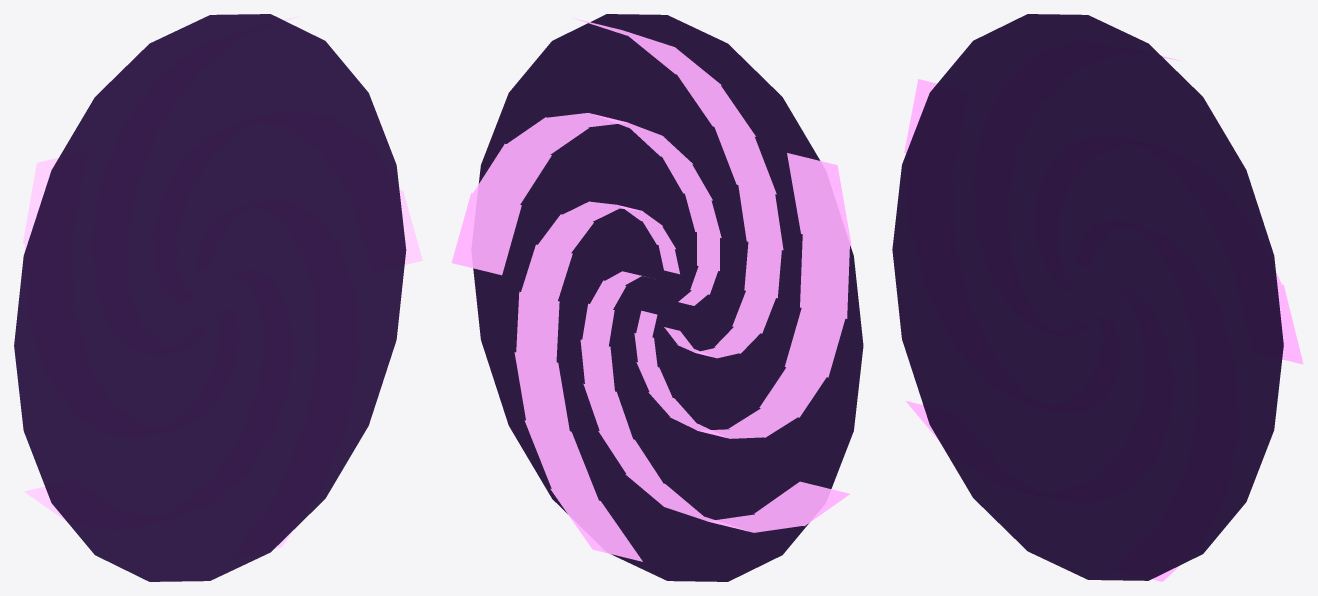
File: fx_r_portal.glb
3 renders of one model, left to right at view 1: azimuth 30°, elevation 25°; view 2: azimuth 150°, elevation 25°; view 3: azimuth 330°, elevation 25°, orthographic.
Visible parts, largest first — view 1: fx_r_portal_void, fx_r_portal_swirl; view 2: fx_r_portal_void, fx_r_portal_swirl; view 3: fx_r_portal_void, fx_r_portal_swirl.
Part boxes in pixels (bbox=[...]): fx_r_portal_void: bbox=[14, 14, 406, 581]; fx_r_portal_swirl: bbox=[22, 16, 422, 548]; fx_r_portal_void: bbox=[473, 14, 863, 581]; fx_r_portal_swirl: bbox=[451, 18, 851, 561]; fx_r_portal_void: bbox=[892, 14, 1283, 580]; fx_r_portal_swirl: bbox=[904, 56, 1303, 581].
Size of the model in its own units: 3.03 by 4 by 0.02.
